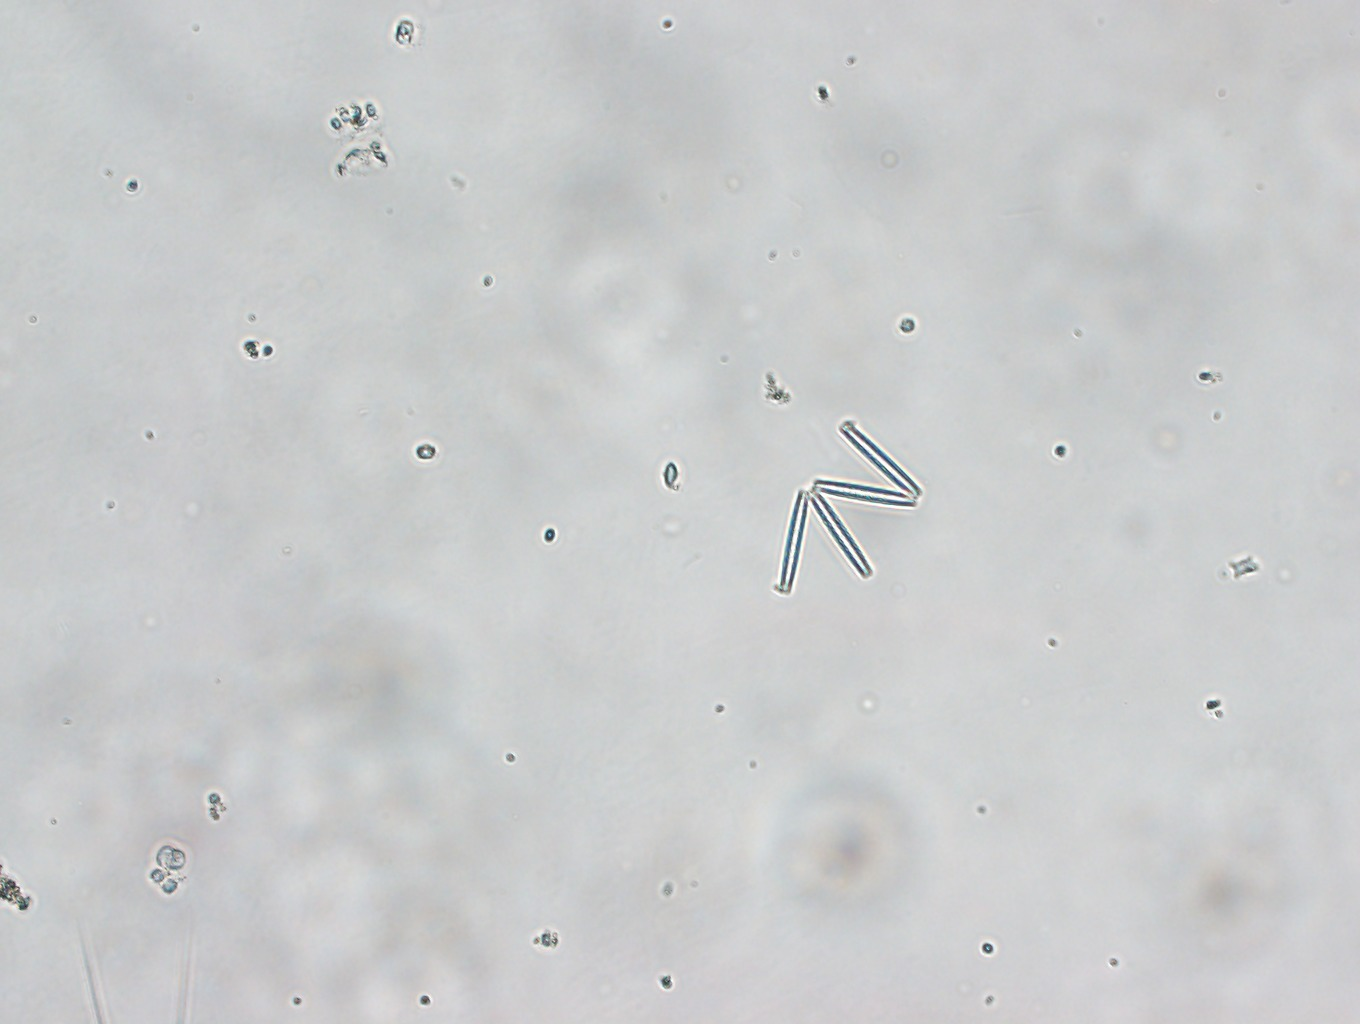thalassionema nitzschioides: (771, 414, 929, 605)
